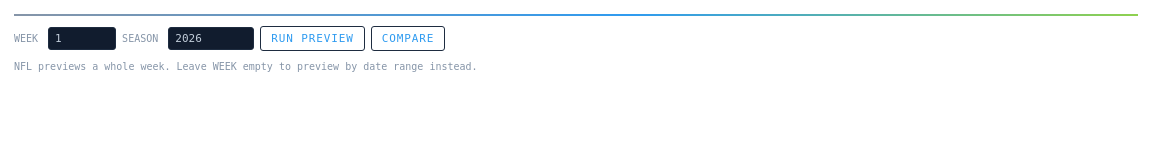
Test: preview window › sends the week, not the first day of a range, for NFL
Click the button "RUN PREVIEW" at point(313, 38), box [260, 26, 365, 51]
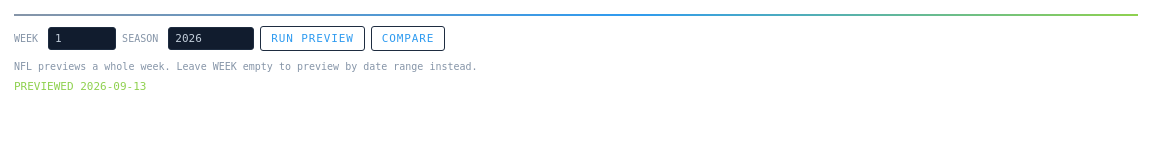
expect the text "PREVIEWED 2026-09-13" is shown: met, box [14, 80, 146, 93]
